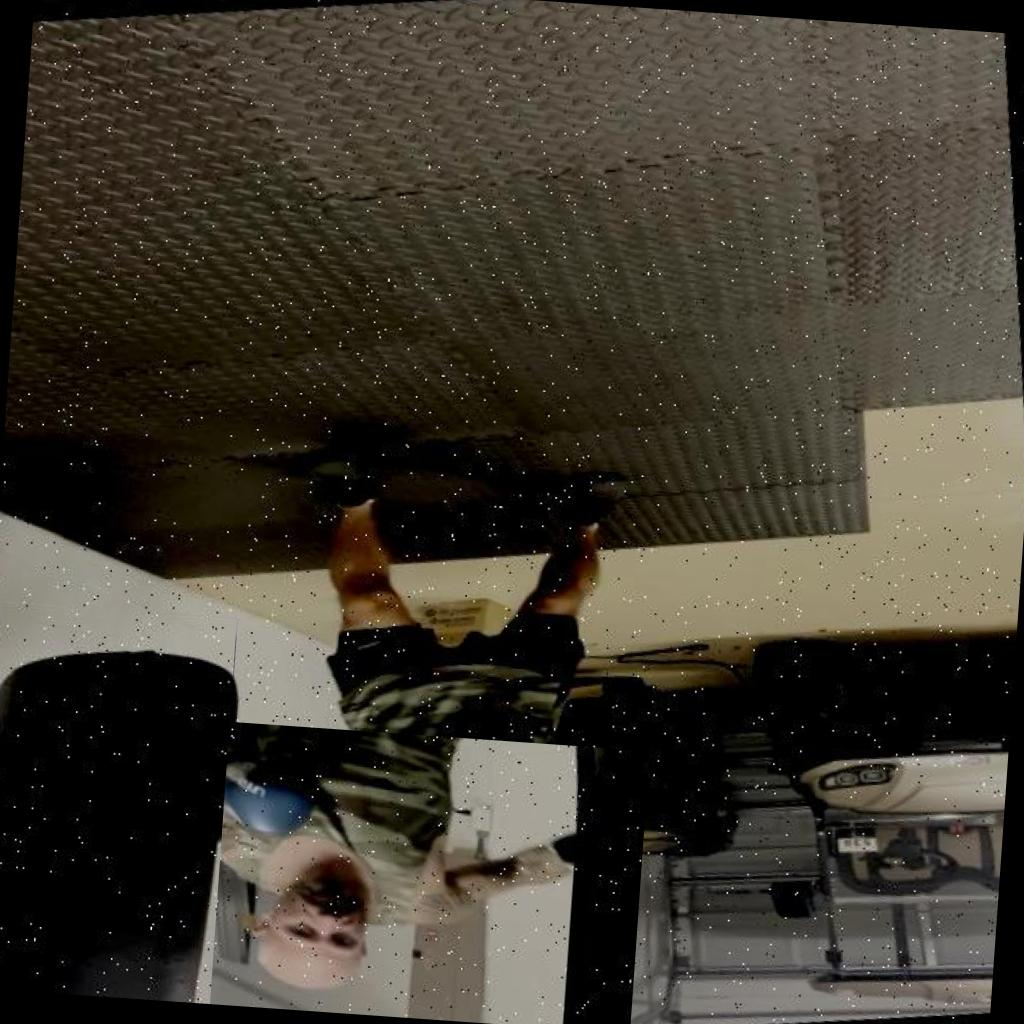bag: (0, 601, 237, 1004)
hook: (143, 717, 650, 1024)
